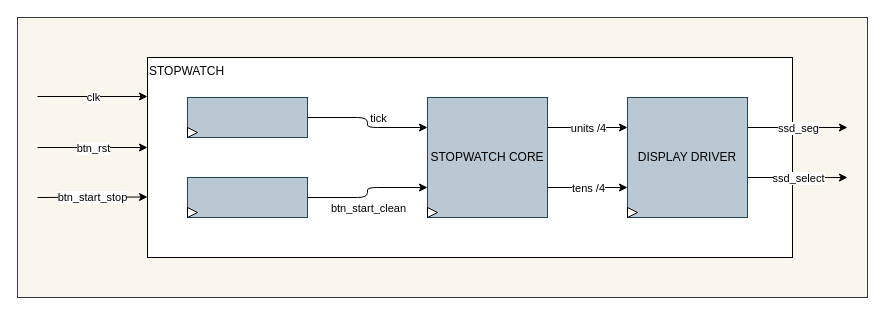
Image size: 885x315. Some labels were removed from this diagram. Here are the shapes that lost their labels. From the top down, the centre of each, then its label:
At point 247,117: "HEARTBEAT".
At point 247,197: "DEBOUNCER".
